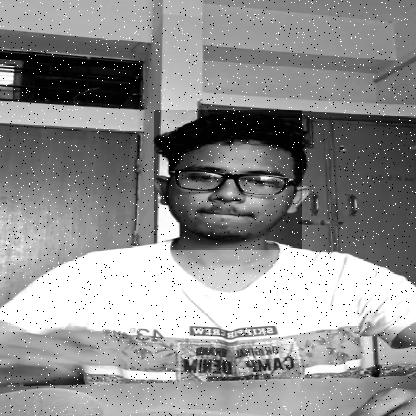Normal: (154, 110, 302, 250)
